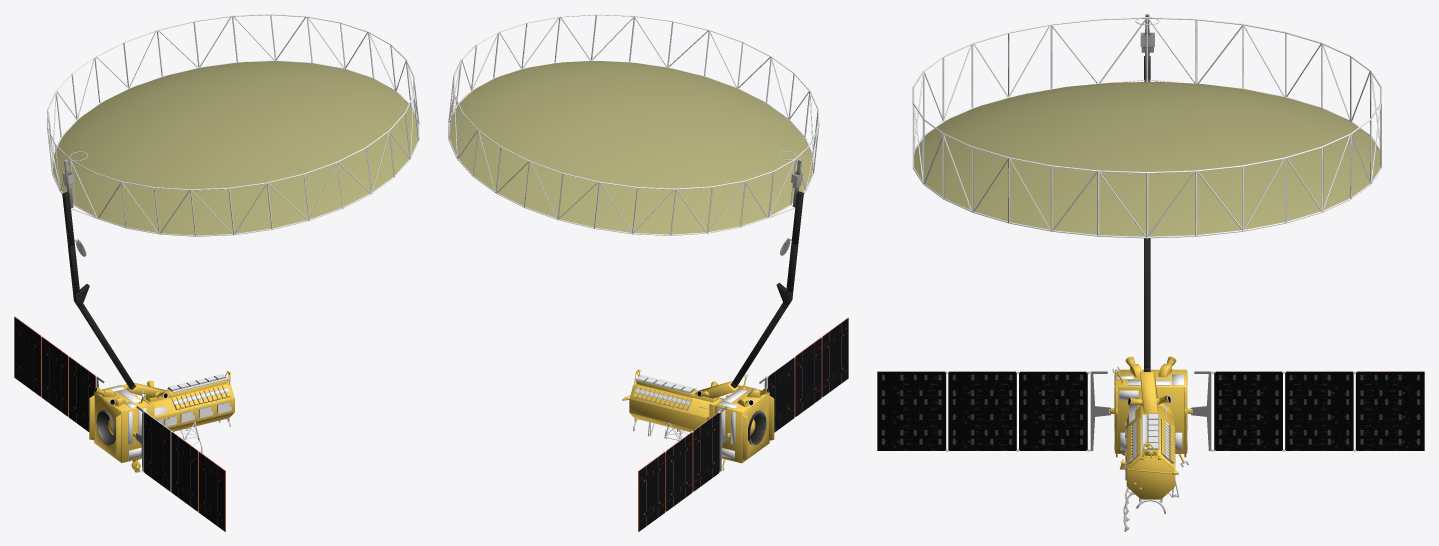
The model's file is sc_nisar.glb.
The picture shows the model from 3 angles, left to right: view 1: azimuth 30°, elevation 25°; view 2: azimuth 150°, elevation 25°; view 3: azimuth 270°, elevation 25°; orthographic projection. The views are drawn at different scales.
Parts seen in each view (by area): view 1: antenna_mesh_top, antenna_railing, BUS, BUS_instruments, Arm, Left_panel_1, Left_panel_2, Right_panel_2, Left_panel_3, Right_panel_3, Right_panel_1, BUS.009; view 2: antenna_mesh_top, antenna_railing, BUS, Arm, Right_panel_2, Right_panel_1, Right_panel_3, Left_panel_2, Left_panel_3, BUS_instruments, Left_panel_1, BUS.009; view 3: antenna_mesh_top, antenna_railing, BUS, Left_panel_3, Right_panel_3, Left_panel_2, Right_panel_2, Left_panel_1, Right_panel_1, BUS_instruments, Arm, BUS.009.
Boxes of the visible parts, x1,y1,x2,y2 form: antenna_mesh_top: [53, 61, 418, 235]; antenna_railing: [47, 14, 419, 236]; BUS: [89, 370, 234, 472]; BUS_instruments: [96, 374, 231, 445]; Arm: [62, 192, 169, 397]; Left_panel_1: [143, 411, 172, 491]; Left_panel_2: [171, 431, 199, 511]; Right_panel_2: [41, 336, 69, 416]; Left_panel_3: [198, 451, 225, 531]; Right_panel_3: [14, 316, 41, 396]; Right_panel_1: [68, 356, 96, 431]; BUS.009: [106, 385, 146, 458]; antenna_mesh_top: [449, 61, 812, 234]; antenna_railing: [448, 14, 819, 235]; BUS: [622, 369, 774, 470]; Arm: [694, 191, 803, 398]; Right_panel_2: [663, 431, 692, 511]; Right_panel_1: [691, 411, 719, 491]; Right_panel_3: [638, 451, 665, 531]; Left_panel_2: [794, 336, 821, 417]; Left_panel_3: [821, 317, 848, 397]; BUS_instruments: [633, 375, 766, 445]; Left_panel_1: [767, 356, 794, 432]; BUS.009: [717, 388, 758, 459]; antenna_mesh_top: [914, 81, 1380, 236]; antenna_railing: [912, 17, 1381, 238]; BUS: [1110, 366, 1191, 531]; Left_panel_3: [877, 371, 947, 451]; Right_panel_3: [1354, 371, 1424, 451]; Left_panel_2: [946, 371, 1017, 451]; Right_panel_2: [1284, 371, 1355, 451]; Left_panel_1: [1017, 371, 1088, 451]; Right_panel_1: [1213, 371, 1284, 451]; BUS_instruments: [1125, 413, 1175, 480]; Arm: [1140, 56, 1157, 413]; BUS.009: [1114, 374, 1187, 450].
Bounding box in the file's own units: 1.14 × 1.22 × 1.25.
Materials: 14 (4 with a texture image).
